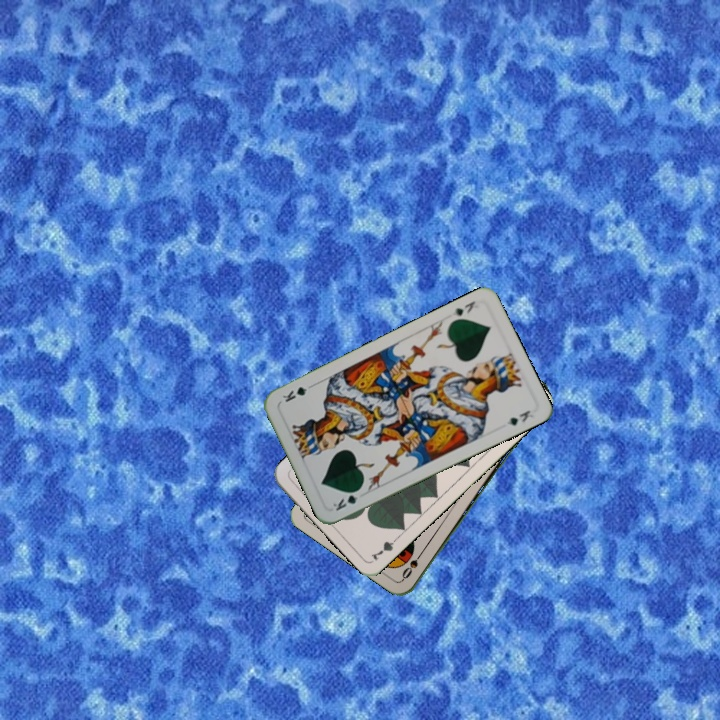G7: (367, 531, 402, 563)
GK: (329, 485, 364, 514), (448, 296, 478, 319)
SO: (398, 546, 426, 582)
